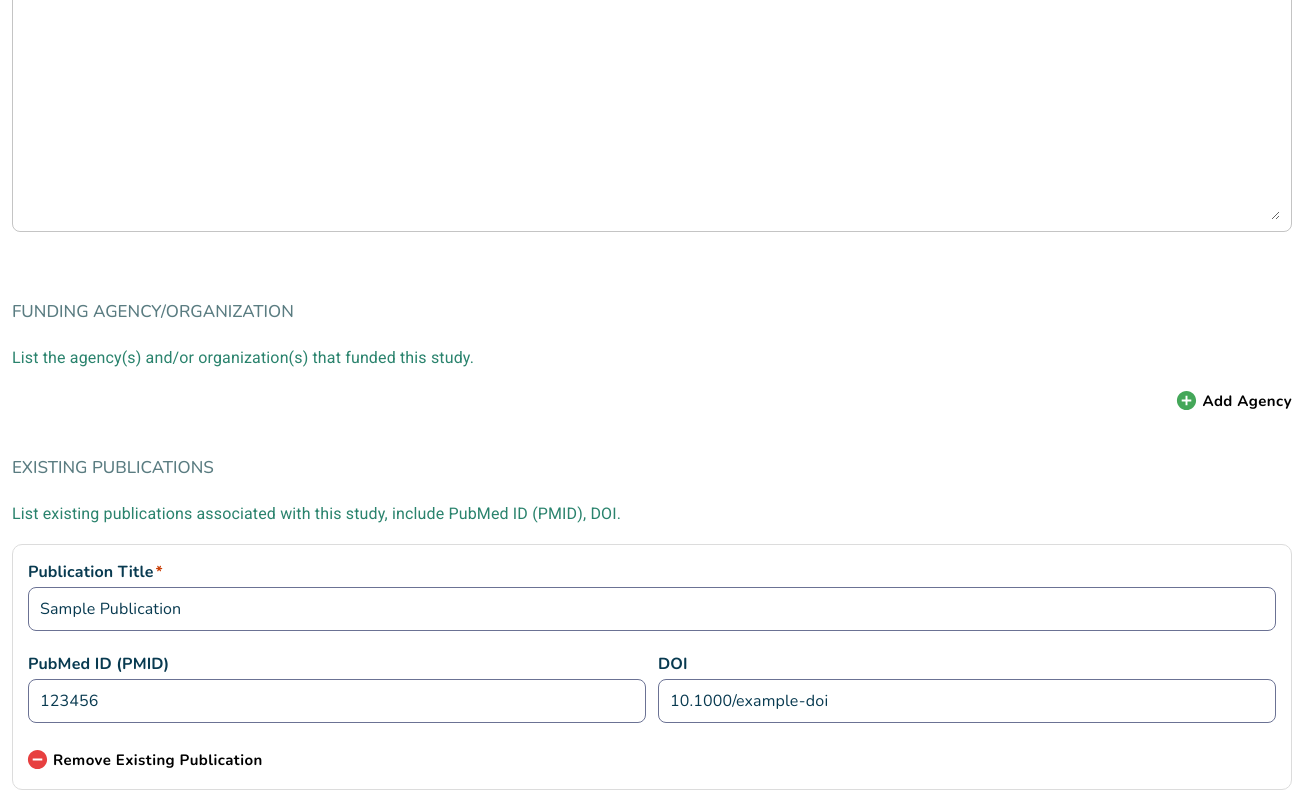
Test: Basic Functionality › should add a funding agency when Add Agency button is clicked
This screenshot has width=1304, height=800.
(page scrolled)
Step 1. Click the button with test id "section-b-add-funding-agency-button" → (1220, 401), box [1149,389,1292,412]
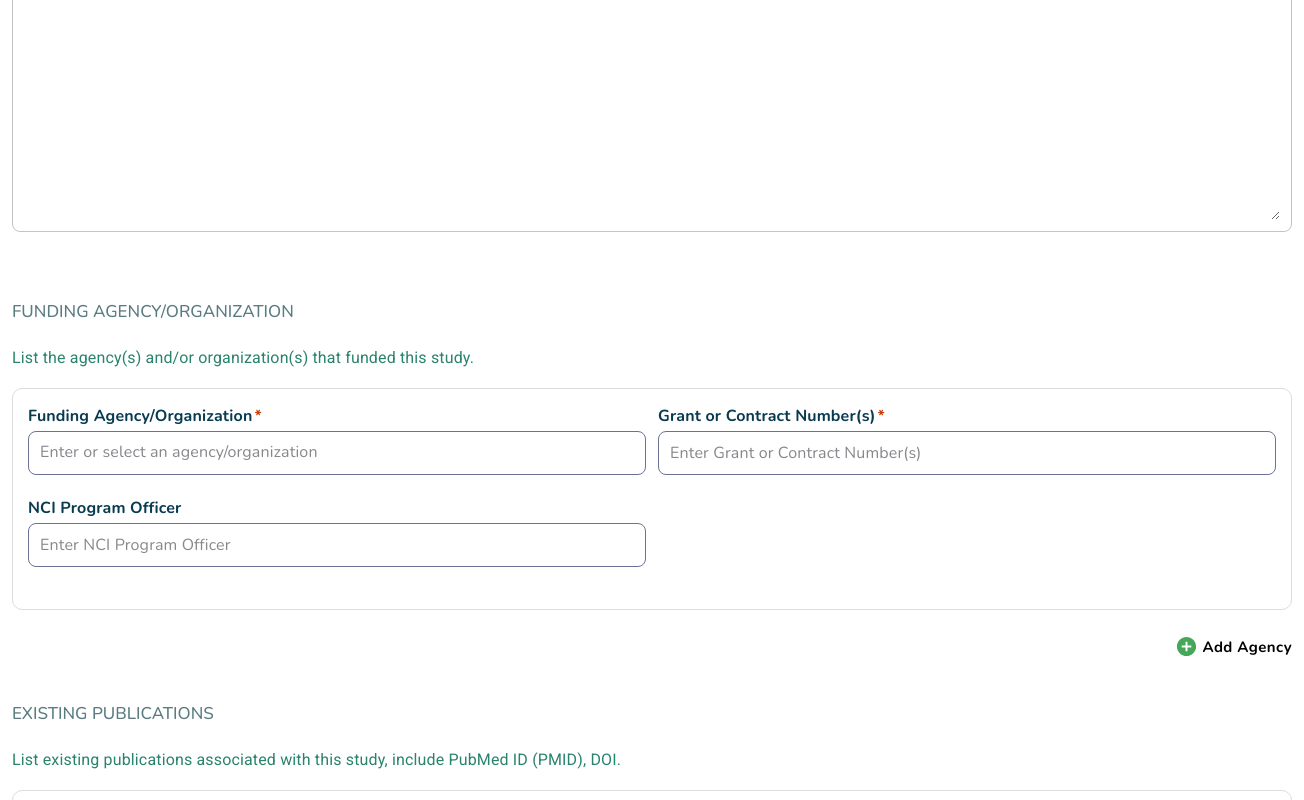
Now the element with test id "section-b-funding-agency-0" is shown, box [12,388,1292,610]
